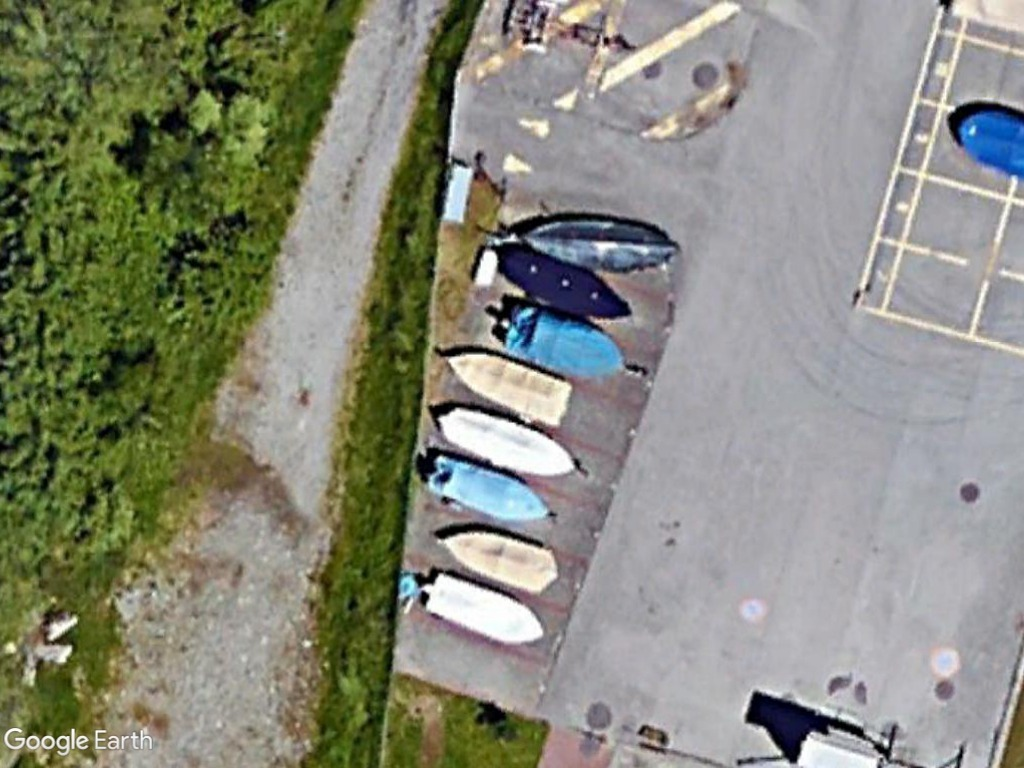boat: (488, 241, 636, 326), (439, 343, 577, 430), (416, 562, 551, 649), (433, 398, 581, 475), (422, 443, 552, 526), (514, 214, 683, 273), (430, 523, 567, 594), (498, 299, 623, 376)
